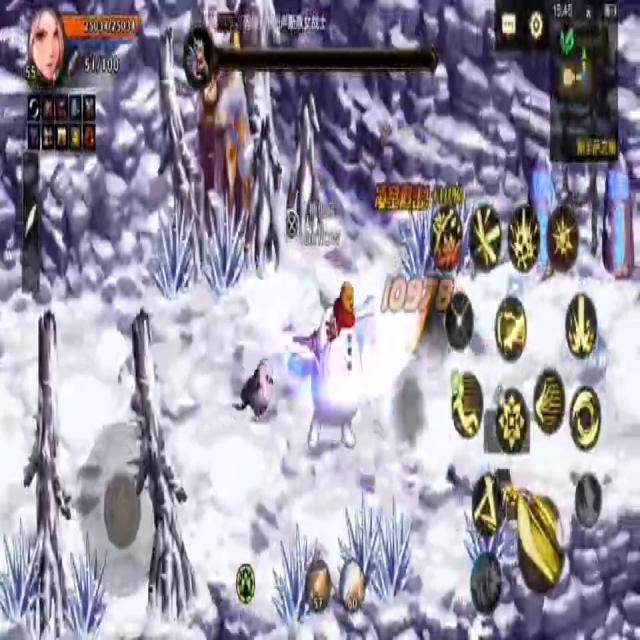player: (303, 280, 361, 454)
